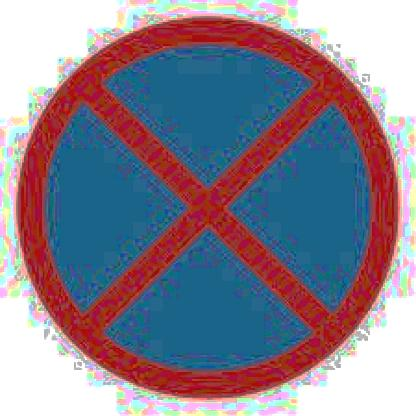No stopping: (10, 14, 403, 406)
